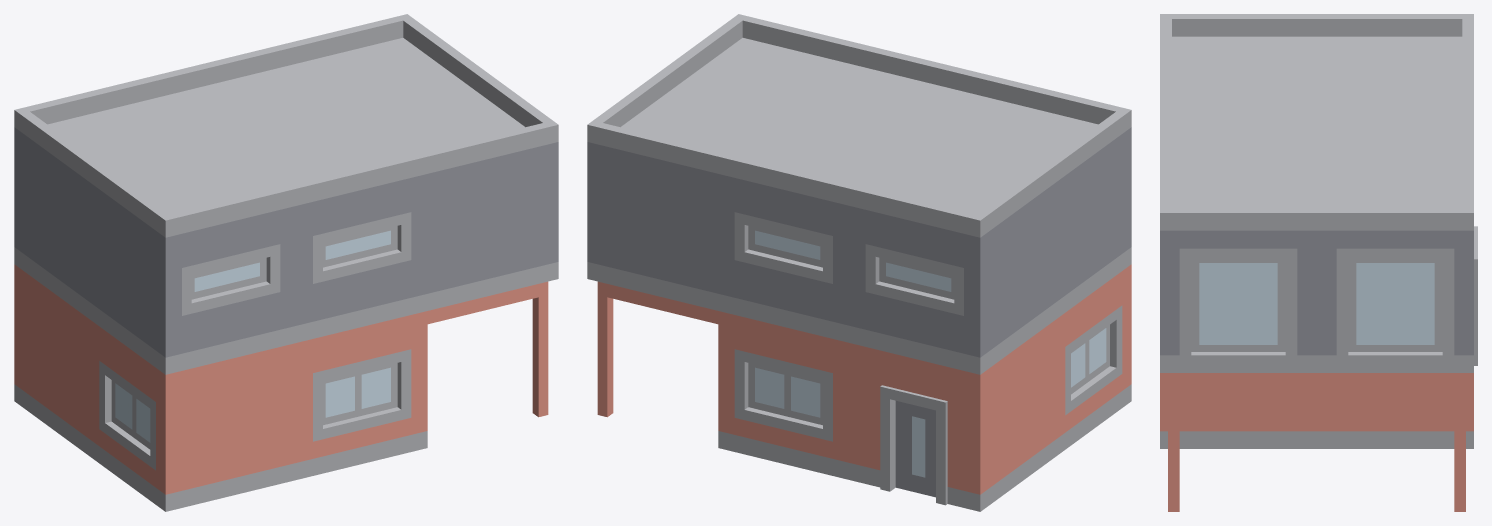
The model's file is house20.fbx.
3 renders of one model, left to right at view 1: azimuth 30°, elevation 25°; view 2: azimuth 150°, elevation 25°; view 3: azimuth 270°, elevation 25°, orthographic. The views are drawn at different scales.
Parts seen in each view (by area): view 1: house_type20; view 2: house_type20; view 3: house_type20.
Boxes of the visible parts, box(x1,y1,x2,y2) form: house_type20: box(14, 14, 558, 511); house_type20: box(587, 14, 1131, 511); house_type20: box(1160, 14, 1477, 511).
Bounding box in the file's own units: 1200 × 850 × 810.
